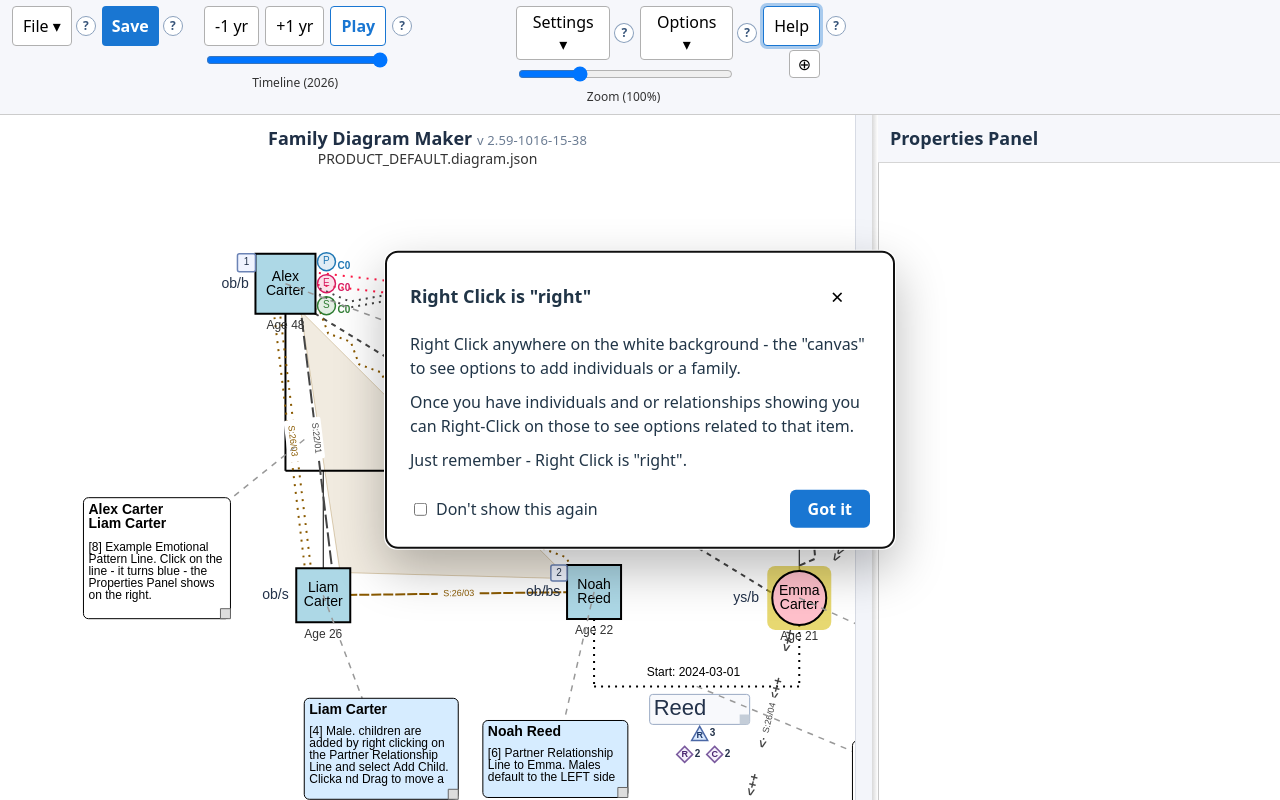
DiagramEditor › starts build demo from help and supports next/previous navigation
Click the button "Help" at (792, 26), box [763,6,820,46]
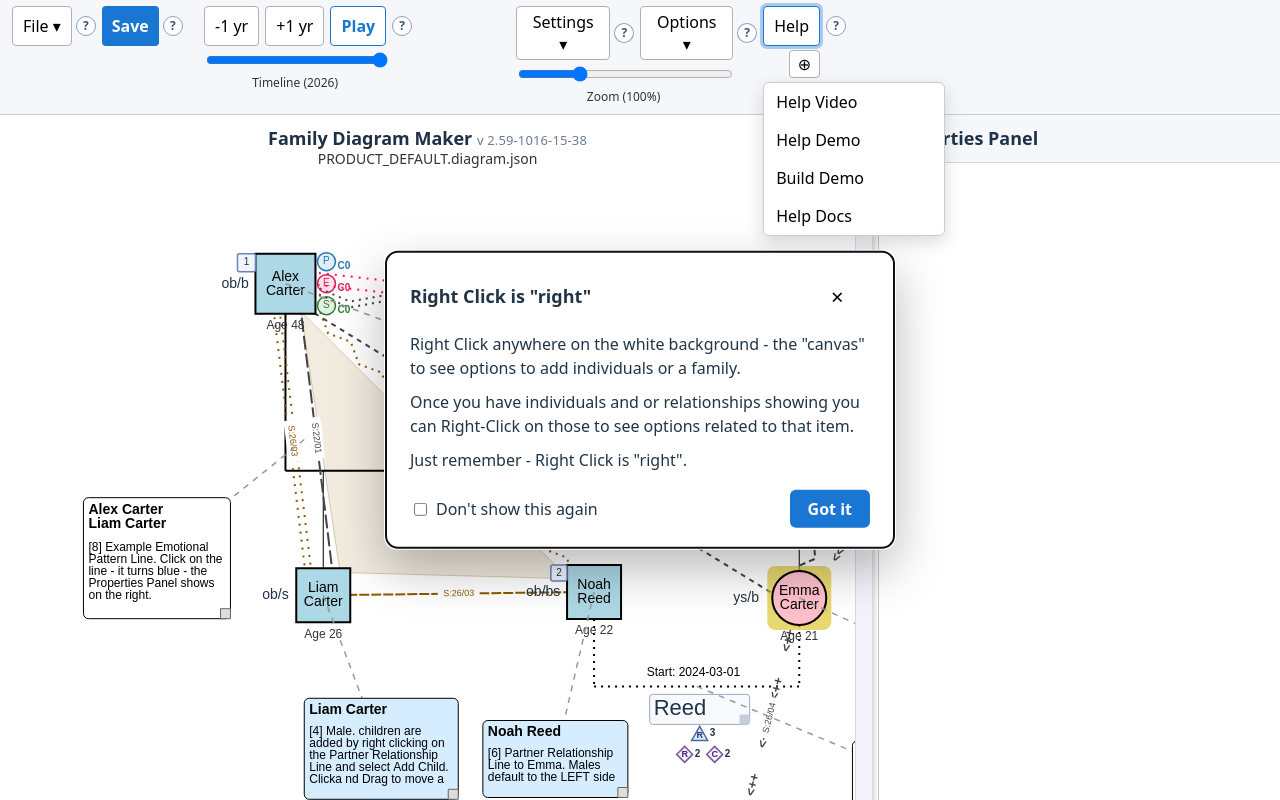
Click the button "Build Demo" at (854, 178), box [764,159,944,197]
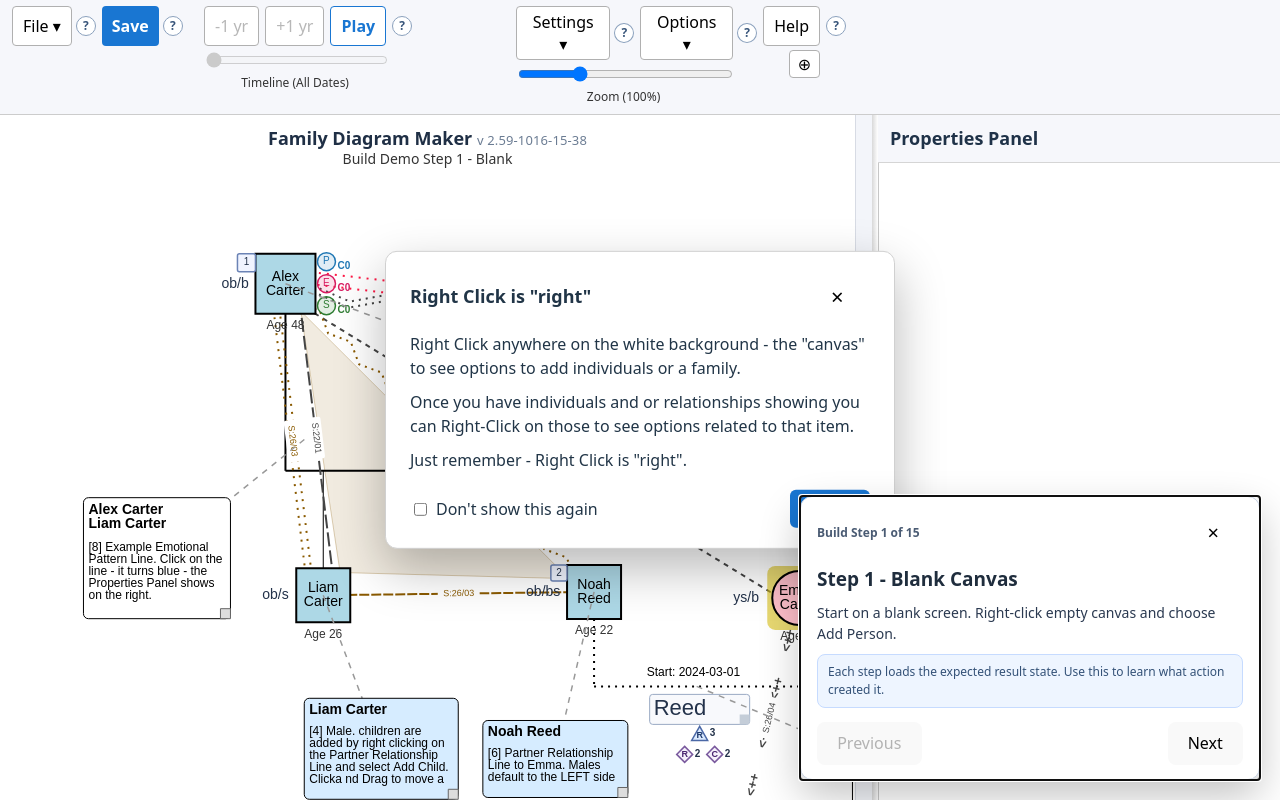
Now the dialog named "build demo walkthrough" is shown, box [800,496,1260,780]
Now the text "Build Step 1 of 15" is shown, box [817,524,920,542]
Click the button "Next" at (1205, 743), box [1168,722,1243,765]
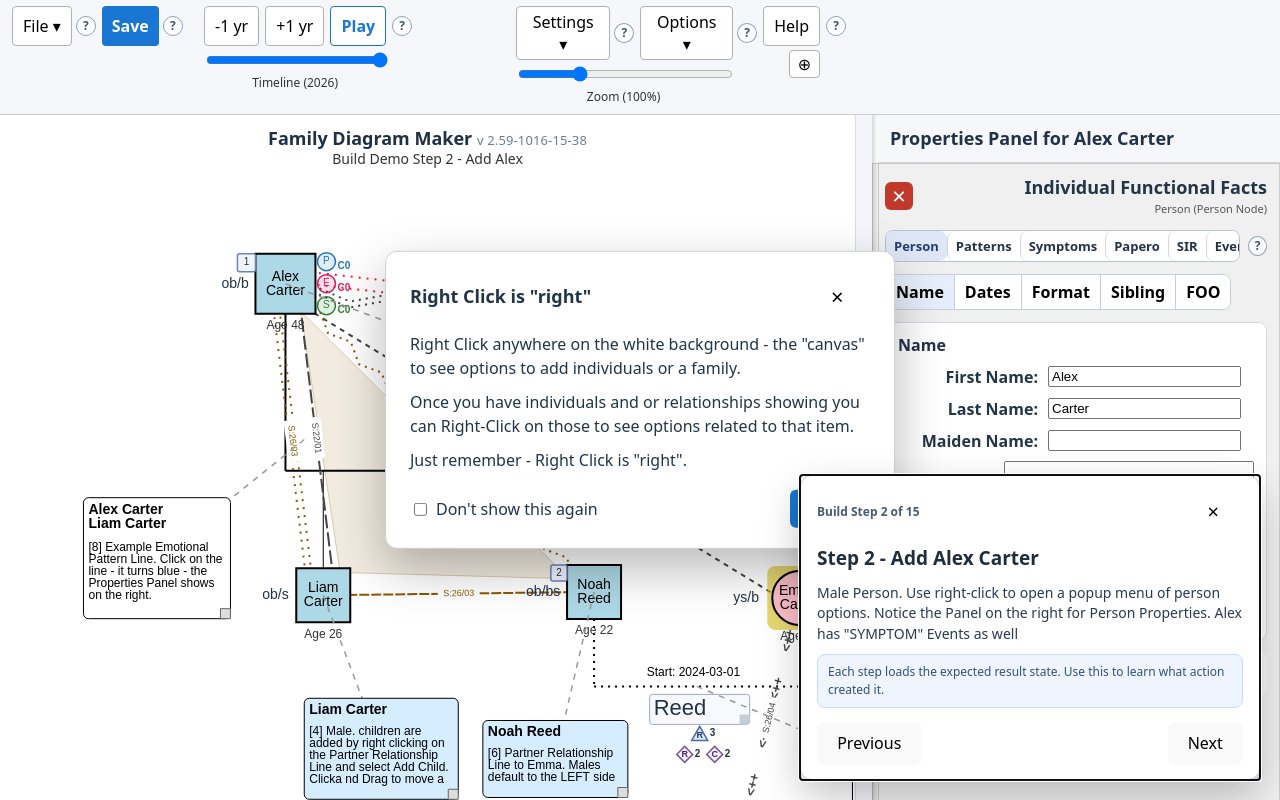
Now the text "Build Step 2 of 15" is shown, box [817,503,920,521]
Click the button "Previous" at (869, 743), box [817,722,922,765]
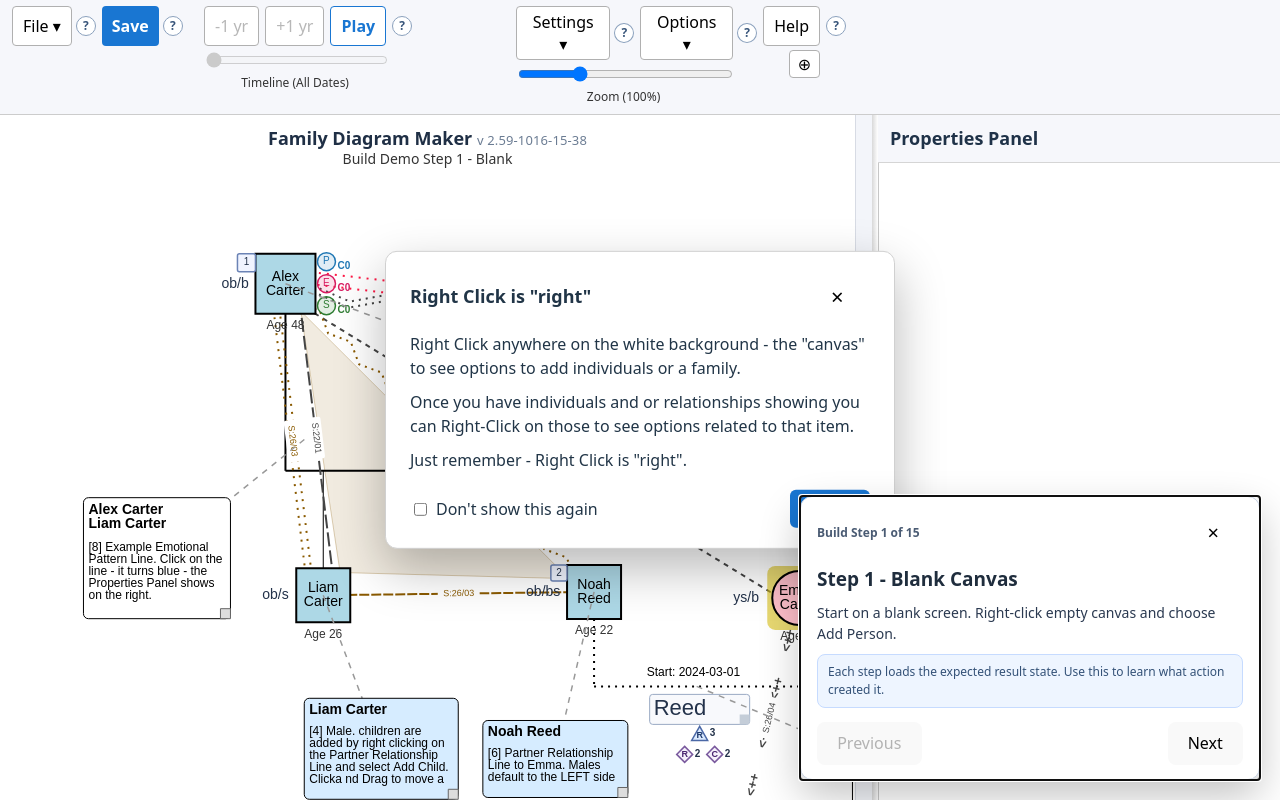
Now the text "Build Step 1 of 15" is shown, box [817,524,920,542]
